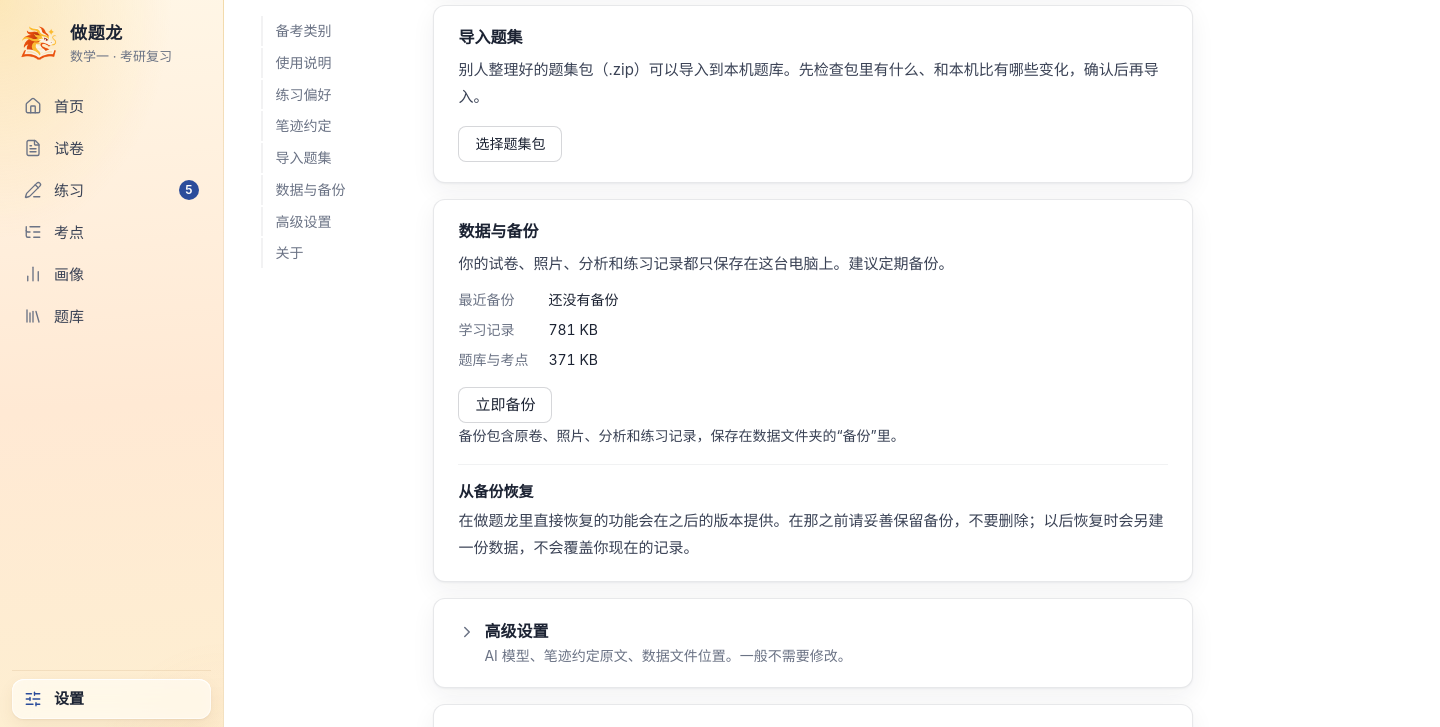
it: shows progress, then success with the time, and refreshes 最近备份
The width and height of the screenshot is (1440, 727).
Later steps or results of the test are not shown.
(page scrolled)
Expected: the text "还没有备份" is shown, x1=548 y1=291 x2=618 y2=308
Click the button "立即备份": coordinates (505, 404) x1=458 y1=386 x2=552 y2=422
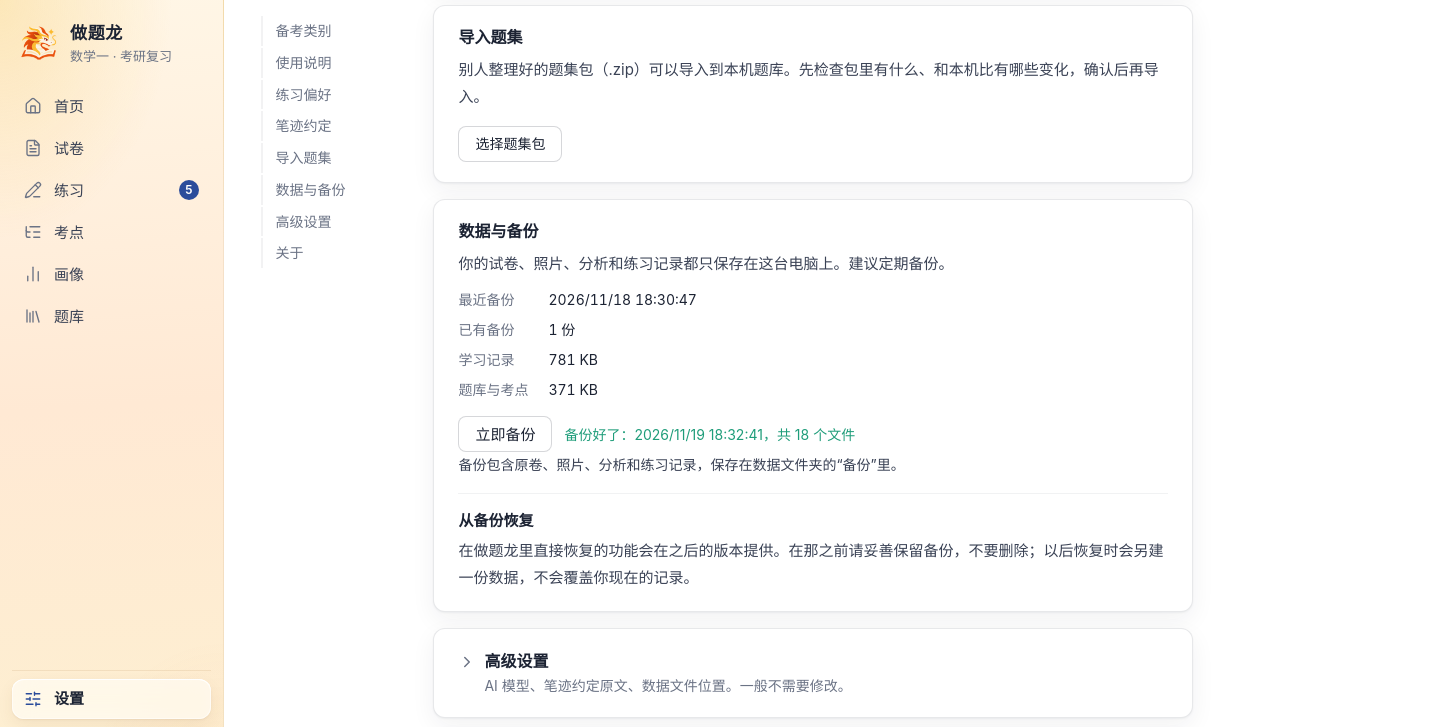
Result: the text "备份好了：2026/11/19 18:32:41，共 18 个文件" is shown at x1=564 y1=426 x2=855 y2=443
Result: the text "还没有备份" is gone
Result: the text "1 份" is shown at x1=548 y1=321 x2=575 y2=338
